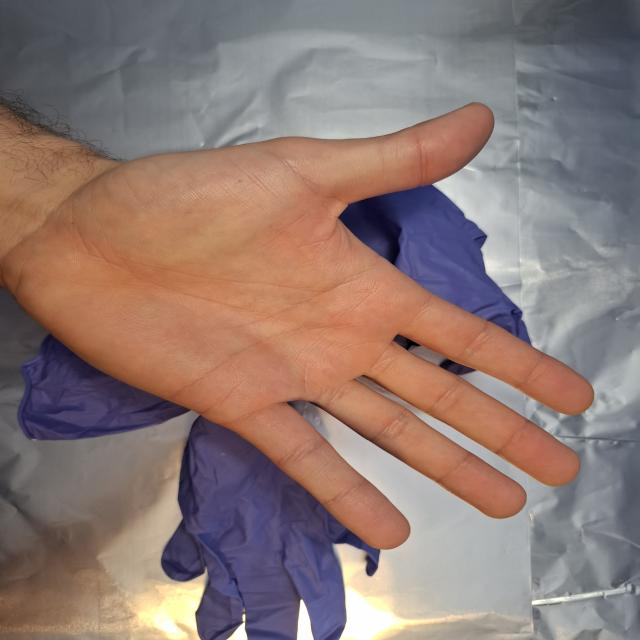glove_off: (4, 100, 597, 552)
